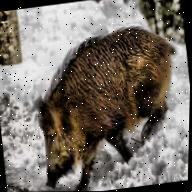boar: (10, 2, 192, 192)
